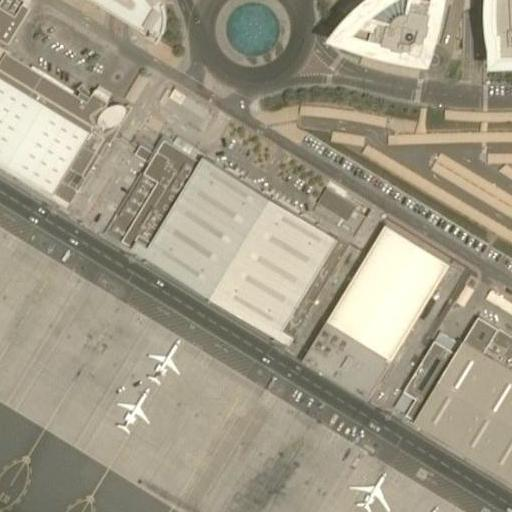Aircraft: (108, 387, 157, 440), (347, 470, 397, 512), (141, 342, 178, 383), (390, 505, 450, 512)
